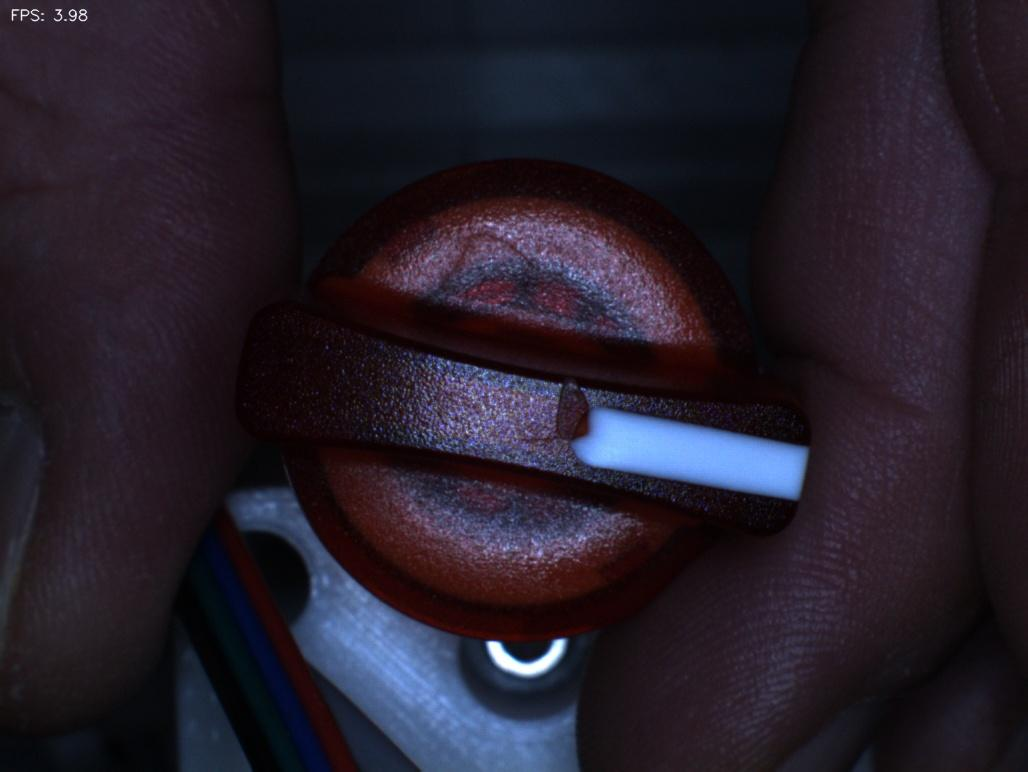Choc: (527, 353, 613, 464)
